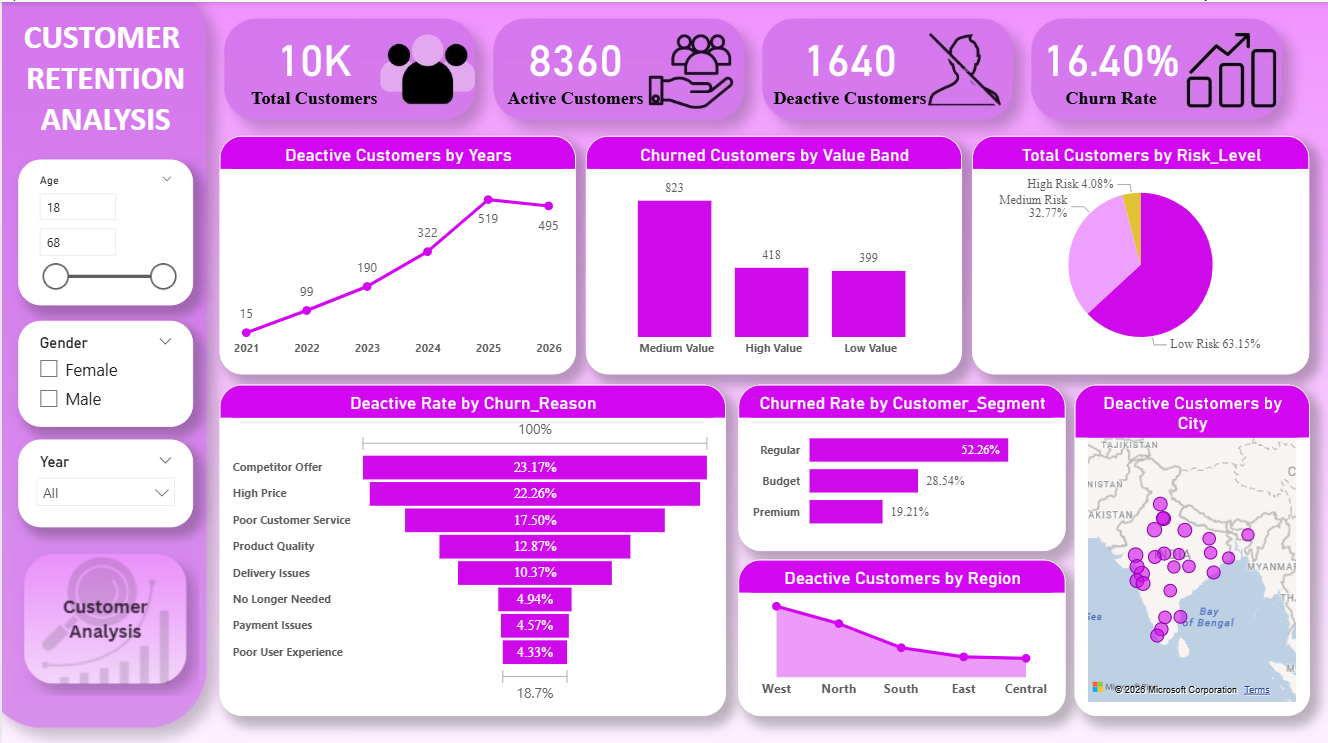

The page's visual inventory and layout, read from the dashboard file:
{"tool":"powerbi","page":{"name":"Churned Dashboard","canvas":[1280,720],"ordinal":0},"visuals":[{"type":"textbox","box":[9.7,9.7,181,142.4],"z":0},{"type":"card","fields":{"Values":["Customer_Master.Total Customers"]},"box":[231.6,9.7,139.9,103.8],"z":1000},{"type":"card","fields":{"Values":["Customer_Master.Active Customers"]},"box":[479,9.7,149.6,103.8],"z":2000},{"type":"card","fields":{"Values":["Customer_Master.Deactive Customers"]},"box":[731.1,9.7,174.9,103.8],"z":3000},{"type":"card","fields":{"Values":["Customer_Master.Churn Rate"]},"box":[983.2,9.7,174.9,103.8],"z":4000},{"type":"lineChart","title":"Deactive Customers by Years","fields":{"Category":["Customer_Master.Churn_Date.Variation.Date Hierarchy.Year"],"Y":["Customer_Master.Deactive Customers"]},"box":[209.9,129.1,343.8,230.4],"z":5000},{"type":"columnChart","title":"Churned Customers by Value Band ","fields":{"Category":["Customer_Master.Customer_Value_Band"],"Y":["Customer_Master.Deactive Customers"]},"box":[563.4,129.1,363.1,230.4],"z":6000},{"type":"pieChart","fields":{"Category":["Customer_Master.Risk_Level"],"Y":["Customer_Master.Total Customers"]},"box":[936.2,129.1,325.7,230.4],"z":7000},{"type":"funnel","fields":{"Y":["Customer_Master.Deactive Rate"],"Category":["Customer_Master.Churn_Reason"]},"box":[209.9,369.2,488.6,319.7],"z":8000},{"type":"barChart","title":"Churned Rate by Customer_Segment","fields":{"Category":["Customer_Master.Customer_Segment"],"Y":["Customer_Master.Deactive Customer Rate"]},"box":[710.6,369.2,316.1,160.5],"z":9000},{"type":"areaChart","fields":{"Category":["Customer_Master.Region"],"Y":["Customer_Master.Deactive Customers"]},"box":[710.6,538.1,316.1,150.8],"z":10000},{"type":"slicer","fields":{"Values":["Customer_Master.Age"]},"box":[15.7,152,168.9,141.2],"z":11000},{"type":"slicer","fields":{"Values":["Customer_Master.Gender"]},"box":[15.7,307.6,168.9,102.5],"z":12000},{"type":"slicer","fields":{"Values":["Customer_Master.Last_Purchase_Date.Variation.Date Hierarchy.Year"]},"box":[15.7,422.3,168.9,84.5],"z":13000},{"type":"image","box":[4.8,505.5,190.6,183.4],"z":14000},{"type":"map","fields":{"Category":["Customer_Master.City"],"Size":["Customer_Master.Deactive Customers"]},"box":[1035.1,369.2,226.8,319.7],"z":15000}]}

Visuals, with their boxes in screenshot pixels (x1, y1, x2, y2), scaled from the page's 1280x720 canvas onto the 1328x743 screenshot:
textbox: [10,10,198,157]
card - Customer_Master.Total Customers: [240,10,385,117]
card - Customer_Master.Active Customers: [497,10,652,117]
card - Customer_Master.Deactive Customers: [759,10,940,117]
card - Customer_Master.Churn Rate: [1020,10,1202,117]
"Deactive Customers by Years" lineChart: [218,133,574,371]
"Churned Customers by Value Band " columnChart: [585,133,961,371]
pieChart - Customer_Master.Risk_Level x Customer_Master.Total Customers: [971,133,1309,371]
funnel - Customer_Master.Deactive Rate x Customer_Master.Churn_Reason: [218,381,725,711]
"Churned Rate by Customer_Segment" barChart: [737,381,1065,547]
areaChart - Customer_Master.Region x Customer_Master.Deactive Customers: [737,555,1065,711]
slicer - Customer_Master.Age: [16,157,192,303]
slicer - Customer_Master.Gender: [16,317,192,423]
slicer - Customer_Master.Last_Purchase_Date.Variation.Date Hierarchy.Year: [16,436,192,523]
image: [5,522,203,711]
map - Customer_Master.City x Customer_Master.Deactive Customers: [1074,381,1309,711]
